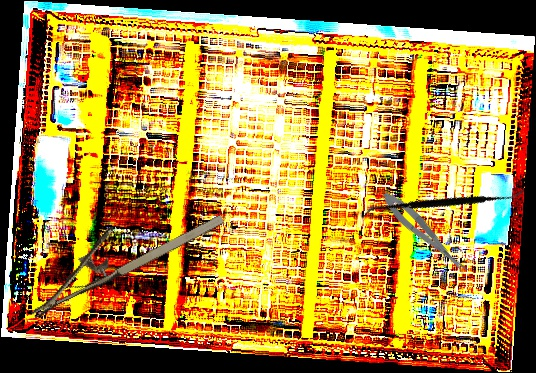Micro Scissor: (377, 186, 472, 281)
Needle Holder: (11, 182, 228, 320)
Spatula Surgical: (361, 127, 525, 281)
